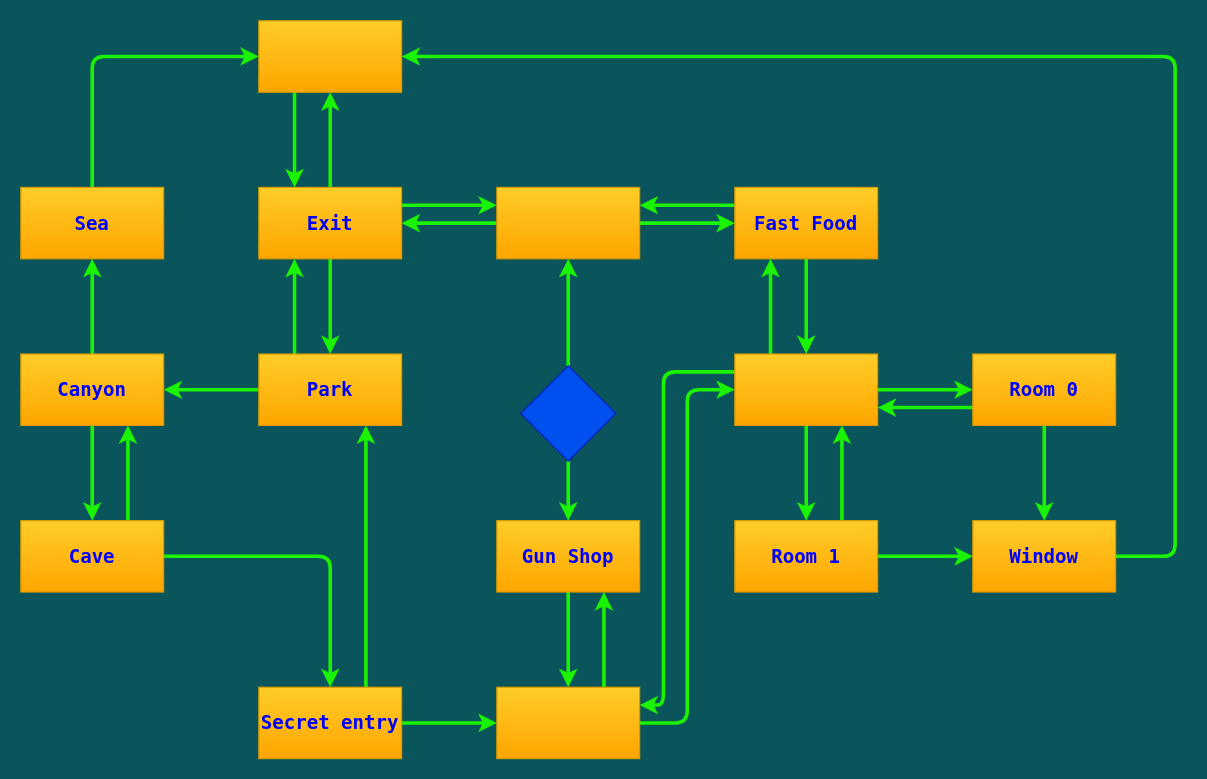
Image size: 1207x779. Some labels were removed from this diagram. Each missing label, with the centre of its shape:
"City Center" belongs at point (330, 56).
"Cloth Shop" belongs at point (568, 222).
"Jack" belongs at point (567, 413).
"Pizza" belongs at point (568, 722).
"Toilet" belongs at point (806, 389).
